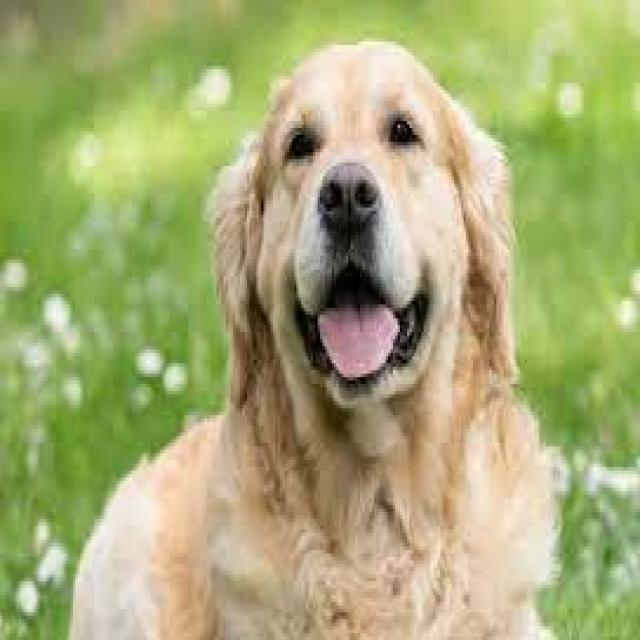dog: (45, 7, 593, 640)
